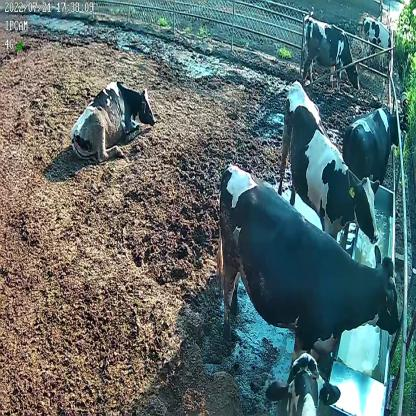cow: (216, 166, 400, 378), (277, 80, 379, 250), (68, 80, 156, 160), (301, 14, 360, 93), (342, 107, 401, 182)
